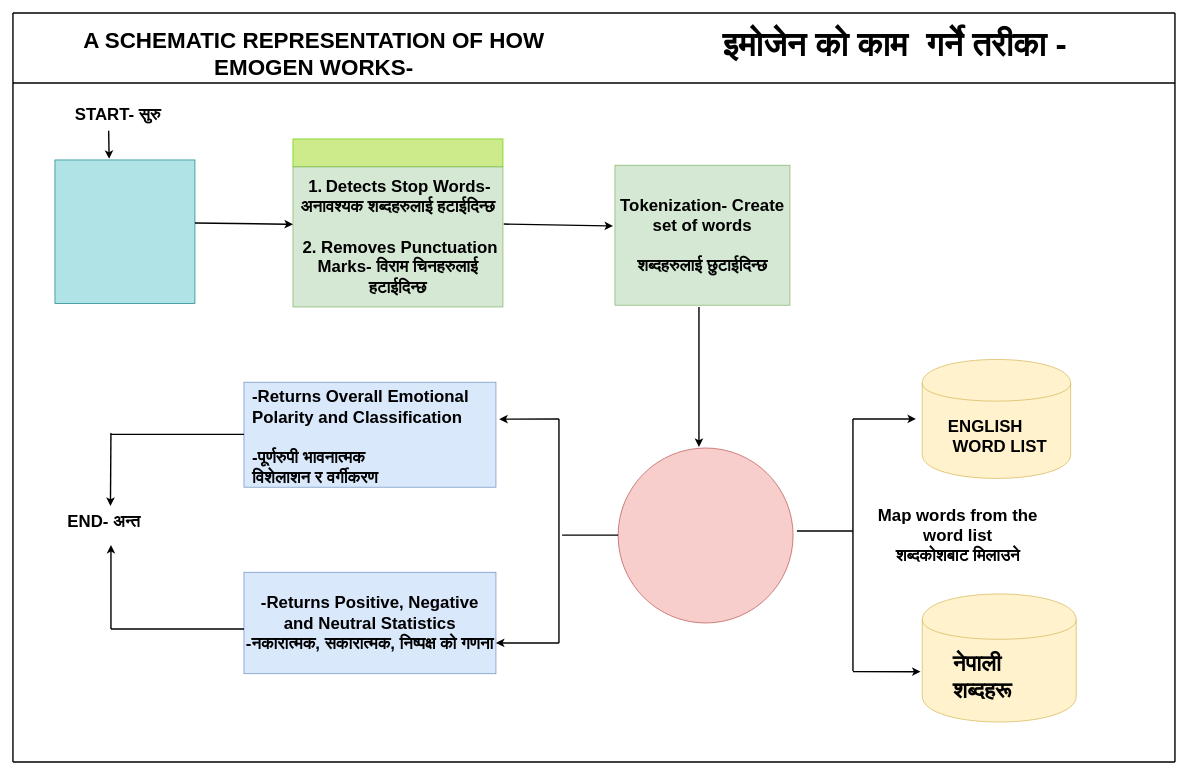
Image size: 1188x775. Some labels were removed from this diagram. The shapes that lost their labels are listed below. From the top down, each one's centre as x and y in pixels, then its label:
At point 397,152: "Preprocessing- पूर्व प्रशोधन".
At point 124,231: "-Upload File or Insert Text - फाइल अपलोड गर्नुहोस अथवा आफै लेख्नुहोस".
At point 705,535: "SENTIMENT ANALYSIS भावनात्मक विश्लेषण".
